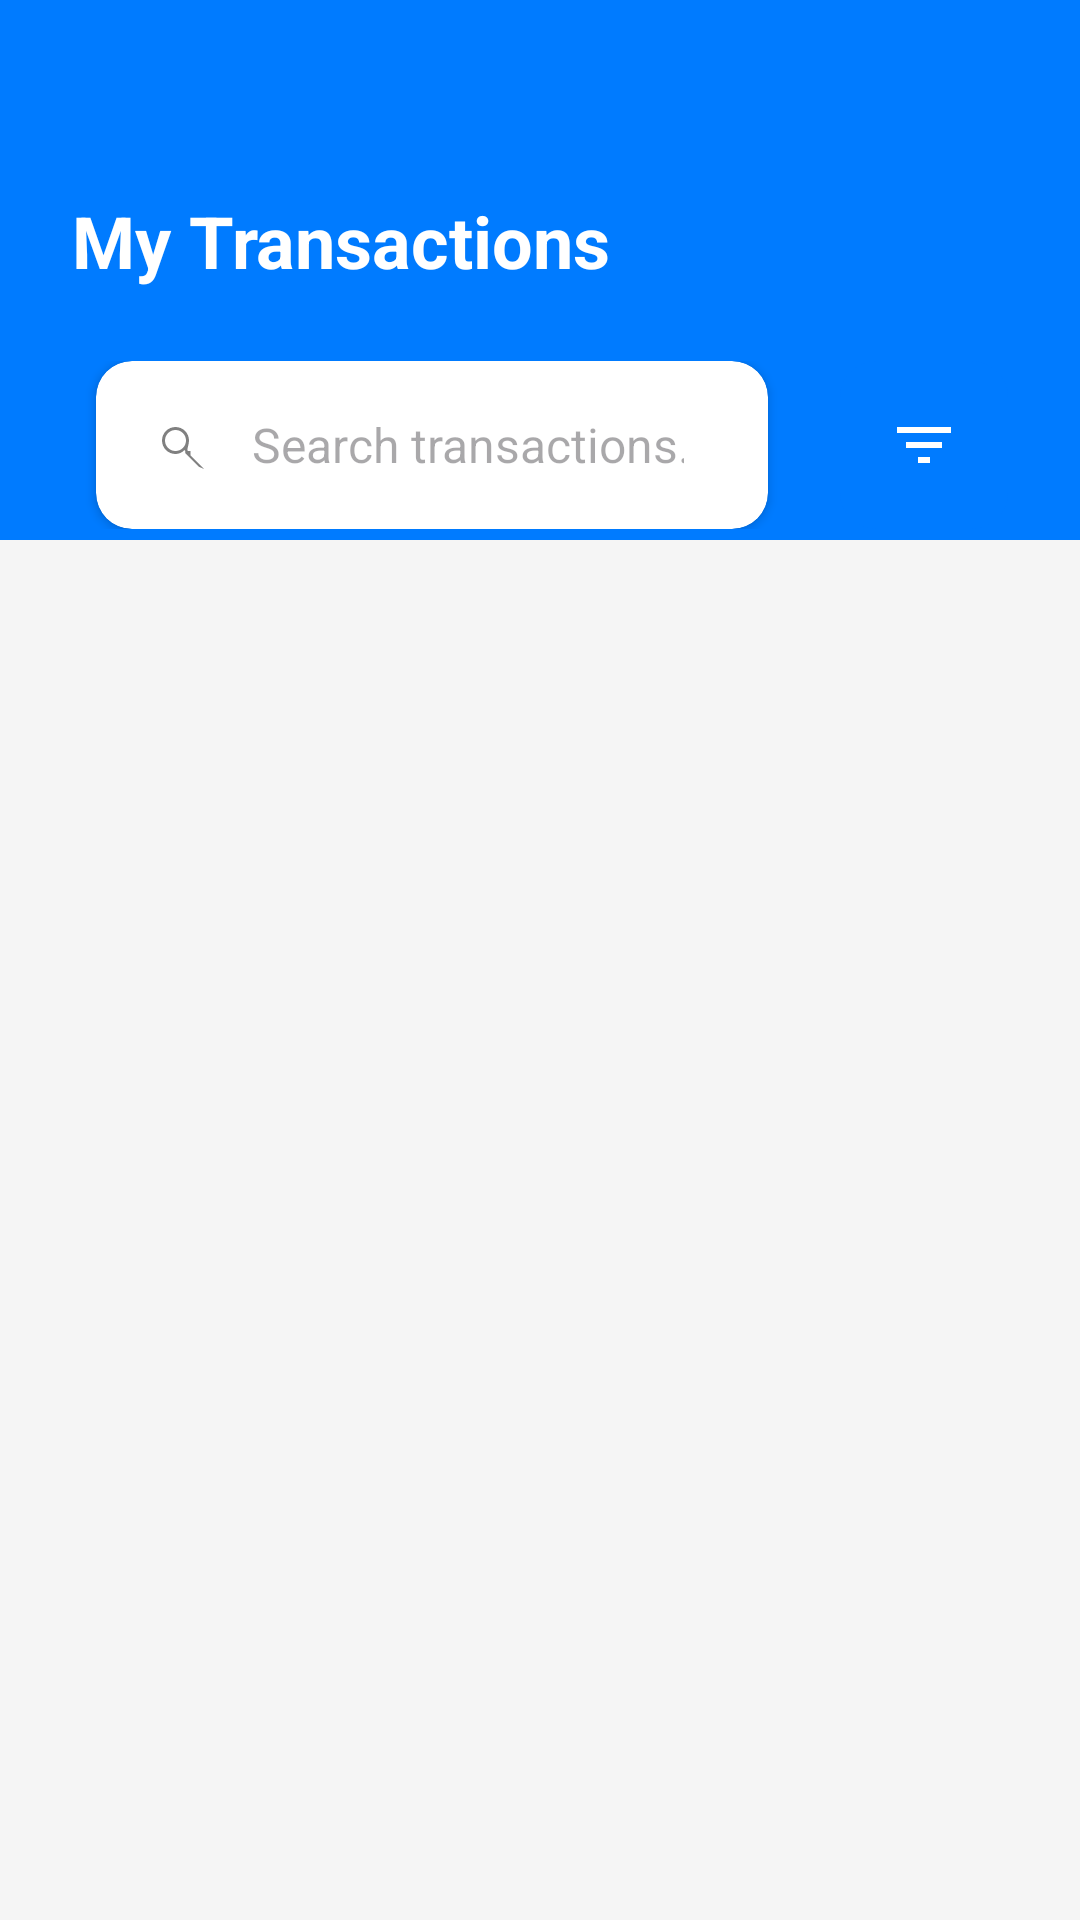

Named icons in this screenshot (1080*1920) and their centers, (x,y):
Filter transactions: (924,445)
